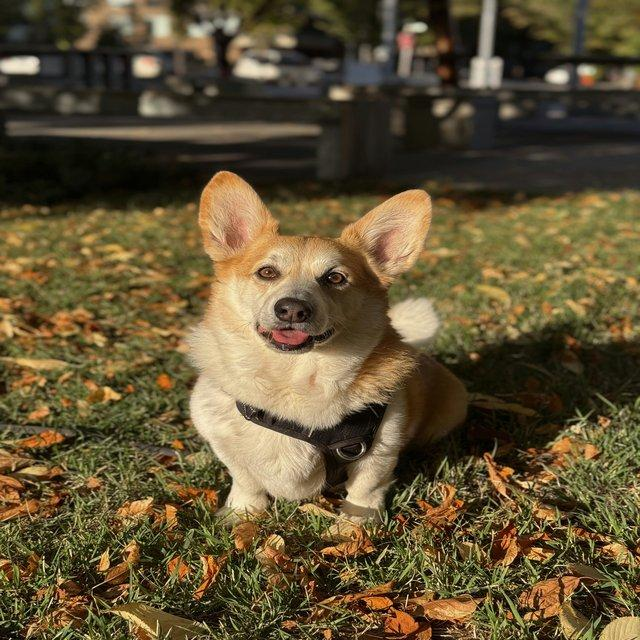corgi: (183, 168, 469, 542)
